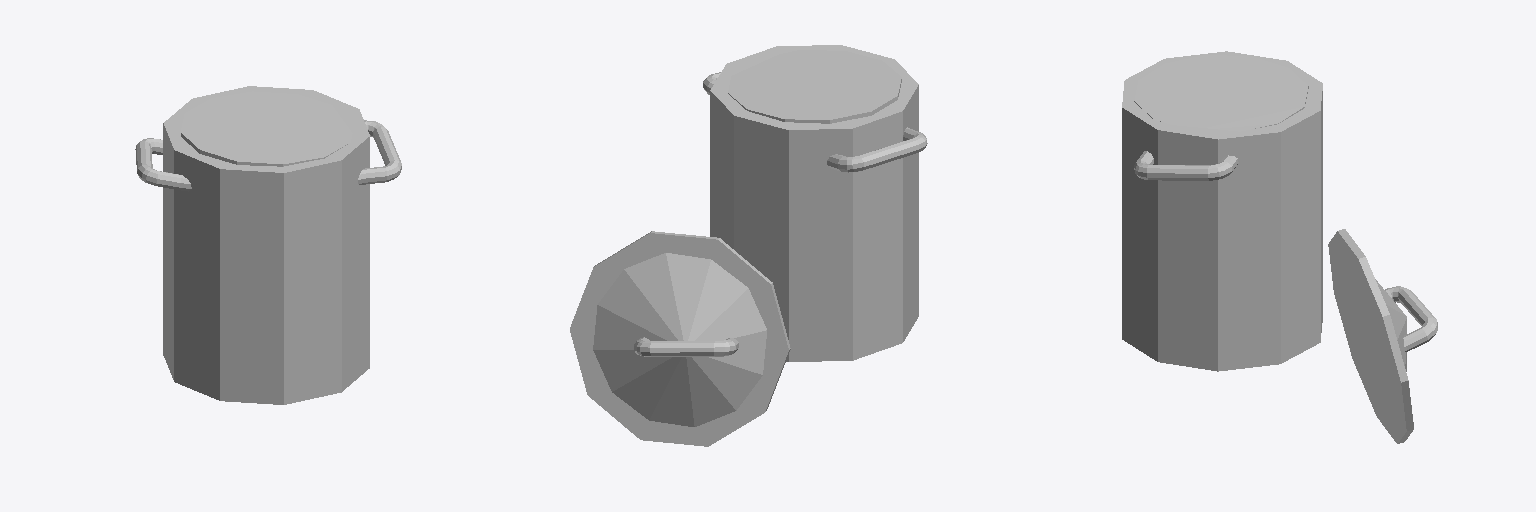
File: Project Name.obj
3 views of the same model, side by side, from view 1: azimuth 30°, elevation 25°; view 2: azimuth 150°, elevation 25°; view 3: azimuth 270°, elevation 25° (orthographic).
Visible parts, largest first — view 1: 001_mesh[number redacted], 000_mesh[number redacted], 005_mesh[number redacted], 006_mesh[number redacted]; view 2: 001_mesh[number redacted], 004_mesh[number redacted], 002_mesh[number redacted], 000_mesh[number redacted], 006_mesh[number redacted], 003_mesh[number redacted]; view 3: 001_mesh[number redacted], 000_mesh[number redacted], 002_mesh[number redacted], 005_mesh[number redacted], 003_mesh[number redacted], 004_mesh[number redacted].
Part boxes in pixels (bbox=[...]): 001_mesh[number redacted]: bbox=[163, 86, 369, 404]; 000_mesh[number redacted]: bbox=[181, 91, 352, 166]; 005_mesh[number redacted]: bbox=[358, 120, 401, 184]; 006_mesh[number redacted]: bbox=[135, 138, 191, 191]; 001_mesh[number redacted]: bbox=[710, 45, 918, 361]; 004_mesh[number redacted]: bbox=[593, 253, 766, 426]; 002_mesh[number redacted]: bbox=[570, 231, 790, 446]; 000_mesh[number redacted]: bbox=[728, 50, 901, 123]; 006_mesh[number redacted]: bbox=[827, 127, 927, 172]; 003_mesh[number redacted]: bbox=[634, 337, 738, 356]; 001_mesh[number redacted]: bbox=[1122, 51, 1322, 371]; 000_mesh[number redacted]: bbox=[1134, 55, 1308, 131]; 002_mesh[number redacted]: bbox=[1328, 229, 1413, 443]; 005_mesh[number redacted]: bbox=[1134, 151, 1238, 180]; 003_mesh[number redacted]: bbox=[1385, 286, 1437, 351]; 004_mesh[number redacted]: bbox=[1375, 279, 1406, 371].
Bounding box in the file's own units: 19.57 × 21.41 × 19.66.